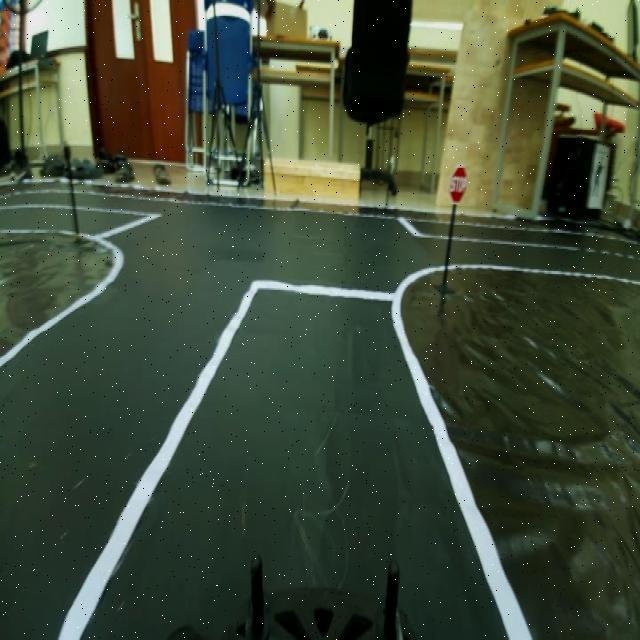stop: (448, 158, 472, 212)
